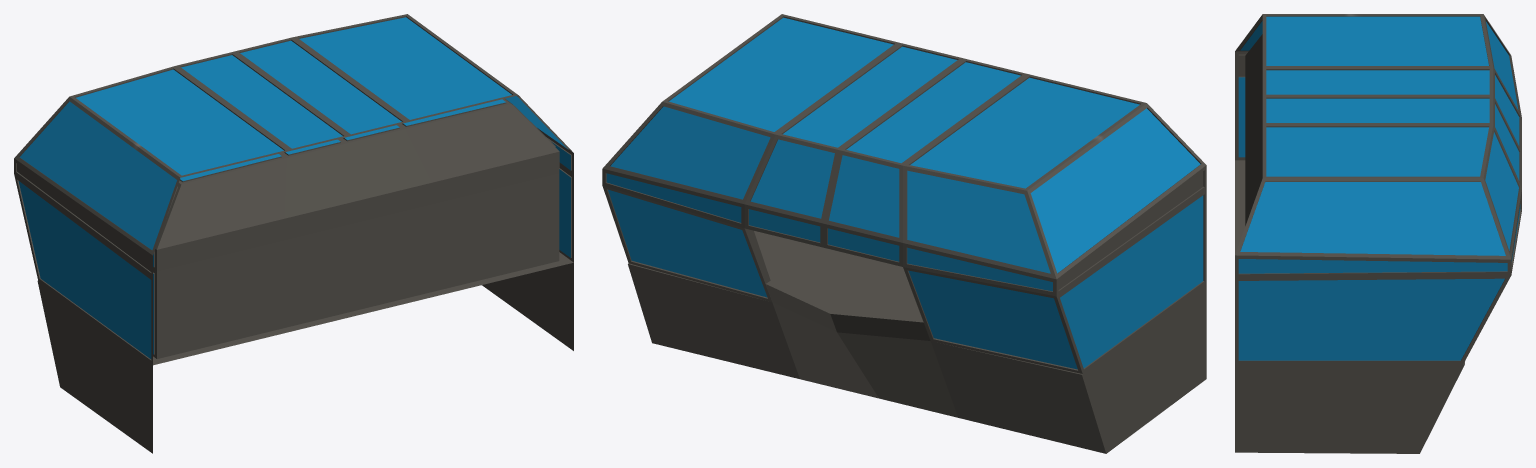
Rendered from Struc_HostPlatform.fbx.
The picture shows the model from 3 angles, left to right: view 1: azimuth 30°, elevation 25°; view 2: azimuth 150°, elevation 25°; view 3: azimuth 270°, elevation 25°; orthographic projection. The views are drawn at different scales.
Visible parts, largest first — view 1: Struc_HostPlatform; view 2: Struc_HostPlatform; view 3: Struc_HostPlatform.
Part boxes in pixels (box(x1,y1,x2,y2)): Struc_HostPlatform: box(14, 14, 573, 453); Struc_HostPlatform: box(602, 14, 1206, 453); Struc_HostPlatform: box(1235, 14, 1521, 453).
Bounding box in the file's own units: 2288 × 1336 × 1358.
